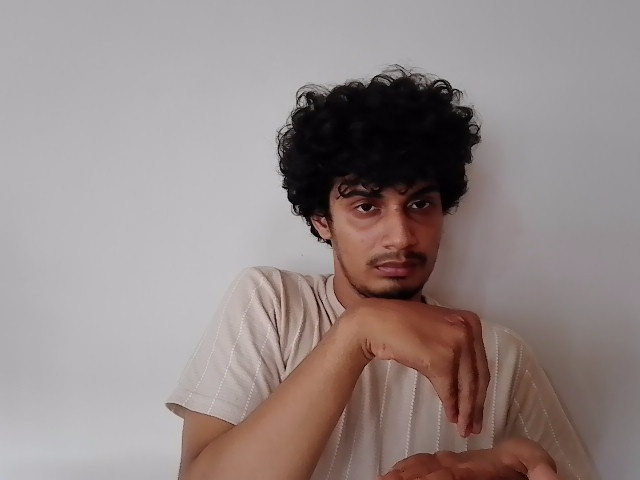learn: (355, 301, 559, 480)
